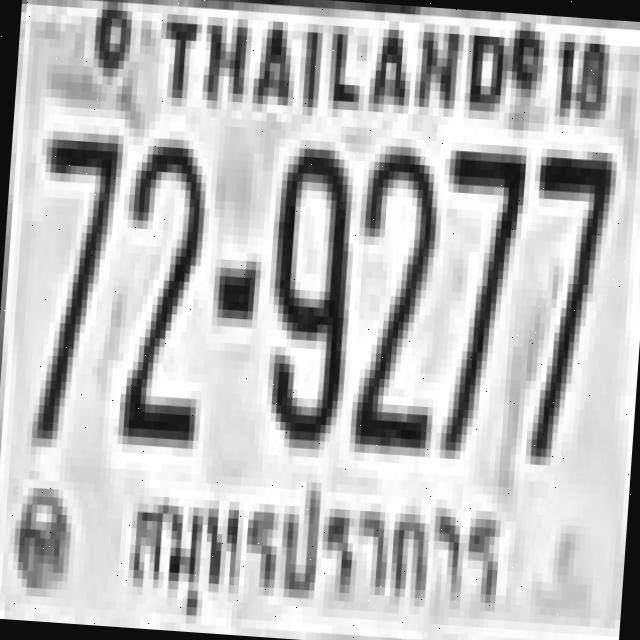2: (348, 136, 444, 448), (112, 137, 208, 440)
7: (22, 121, 118, 442), (516, 140, 612, 460), (427, 142, 524, 454)
9: (262, 140, 358, 444)
SamutPrakan: (109, 462, 524, 638)
